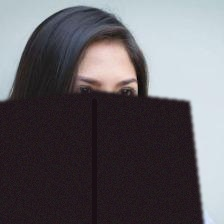Cadar_Niqab: (0, 2, 203, 224)
